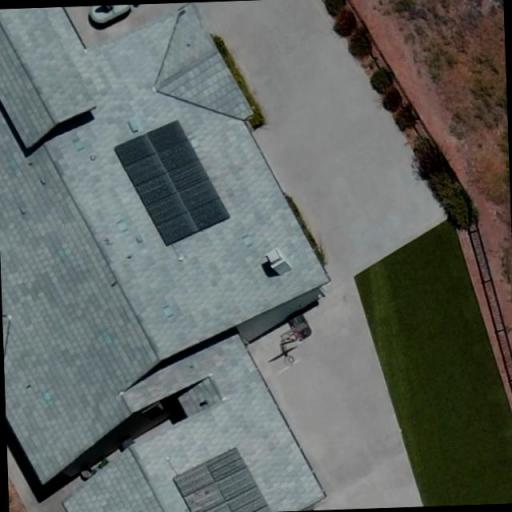solar-panel: (112, 118, 232, 246), (172, 445, 272, 512)
